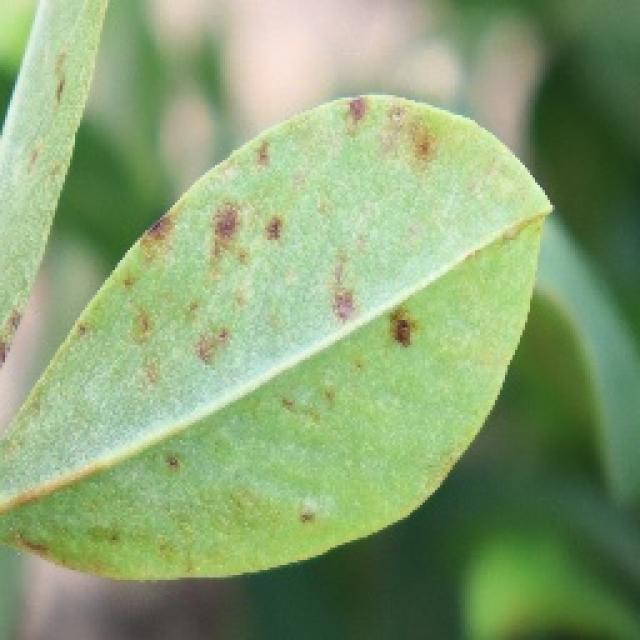Whitefly: (1, 53, 544, 622), (0, 0, 110, 305)
